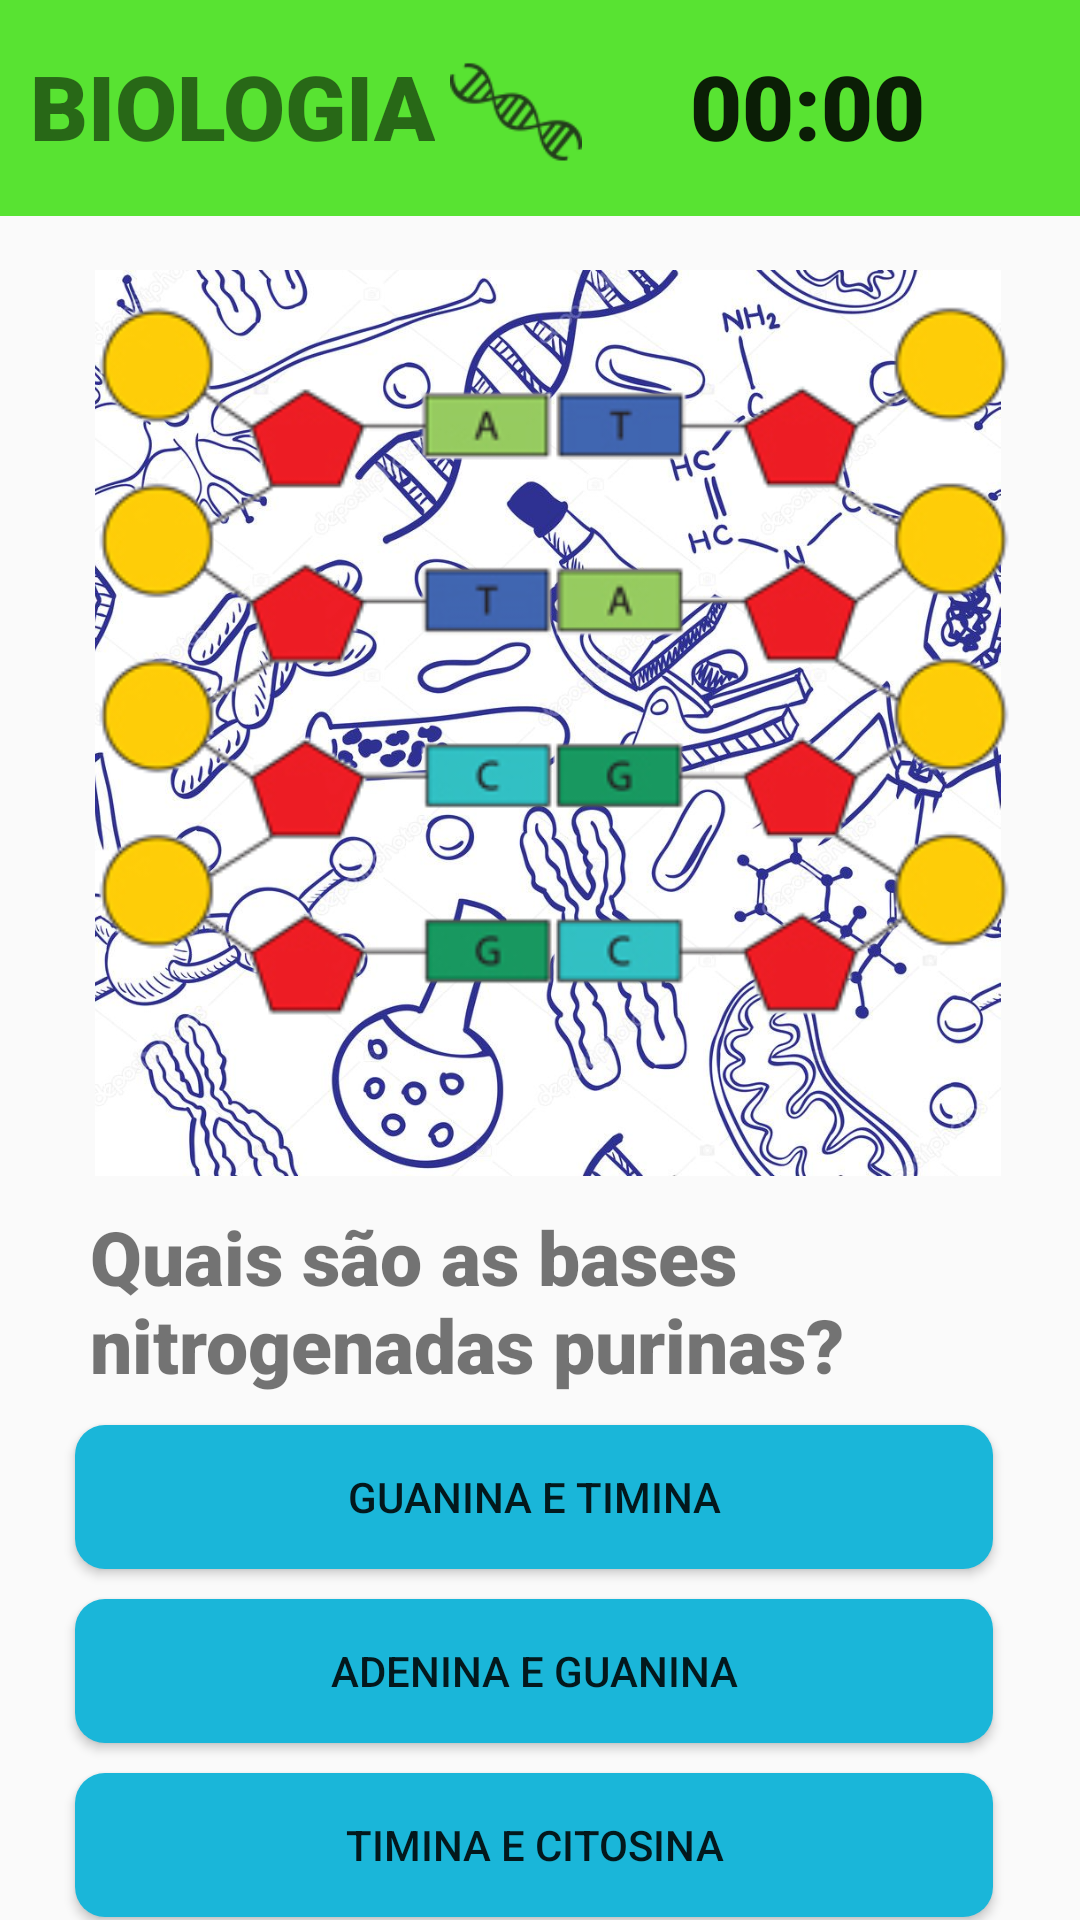

Named icons in this screenshot (1080w x 1920h) and their bounding boxes, (x1, y1, x2, y2):
iconbio: (450, 63, 582, 161)
